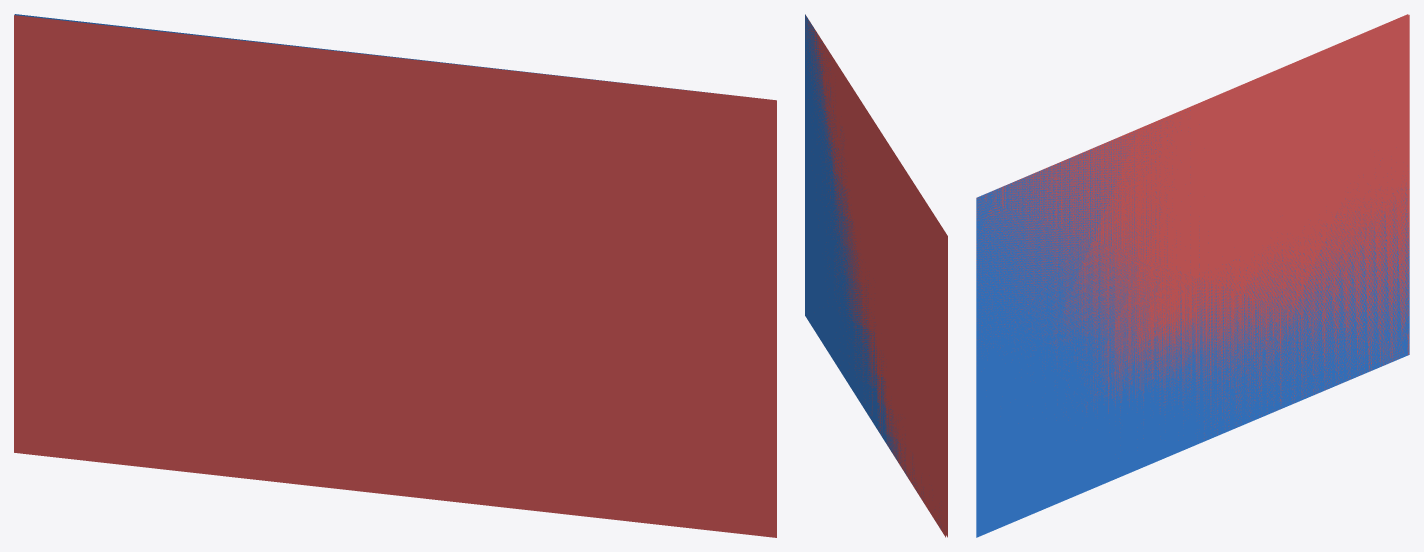
Rendered from asset.glb.
3 renders of one model, left to right at view 1: azimuth 30°, elevation 25°; view 2: azimuth 150°, elevation 25°; view 3: azimuth 270°, elevation 25°, orthographic. The views are drawn at different scales.
Visible parts, largest first — view 1: lewa, dolna; view 2: prawa, gornaprawa, lewa, dolna; view 3: prawa, gornaprawa, dolna, lewa.
Part boxes in pixels (<box>): lewa: <box>14,15,776,537</box>; dolna: <box>14,14,731,95</box>; prawa: <box>805,15,945,537</box>; gornaprawa: <box>805,18,940,529</box>; lewa: <box>816,31,947,537</box>; dolna: <box>805,14,809,223</box>; prawa: <box>976,15,1409,438</box>; gornaprawa: <box>976,110,1409,537</box>; dolna: <box>976,179,1038,452</box>; lewa: <box>1010,14,1408,183</box>.
Size of the model in its own units: 2.09 by 1.8 by 2.08.
